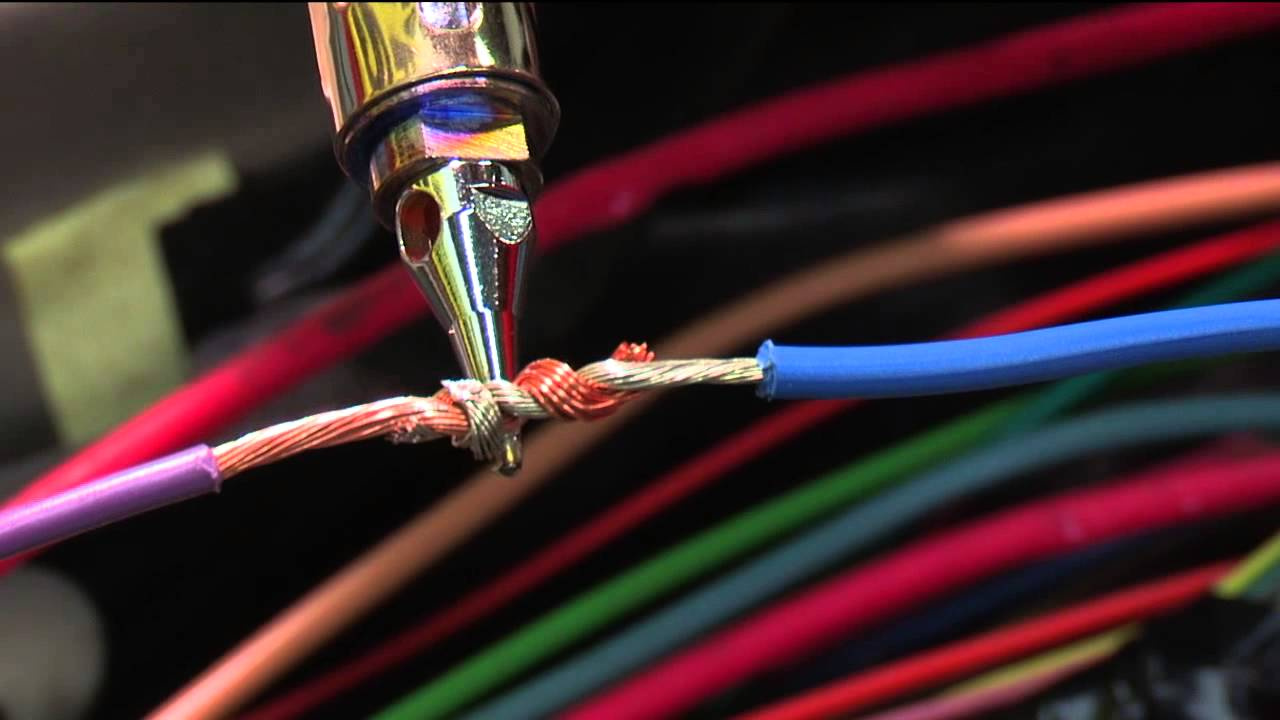Nonrec_Tangler: (1, 341, 1259, 555)
